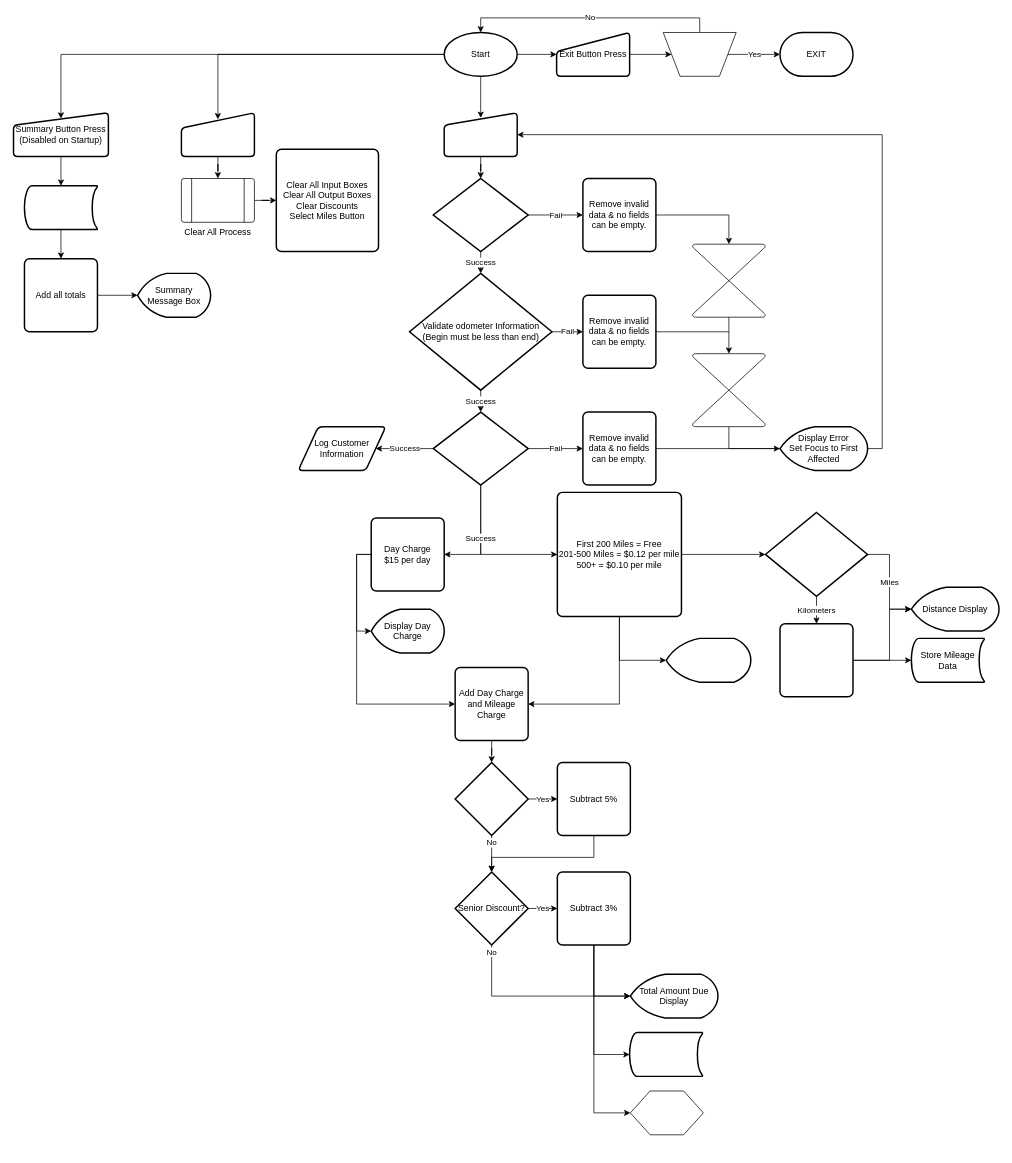
The diagram is 1012 pixels wide and 1163 high, and some of its shapes have lost their labels. The box of each missing label's shape, as (x1, y1, x2, y2) in pixels:
AAA Discount?: (454, 761, 529, 836)
Activate Summary Button: (630, 1090, 703, 1135)
Calculate Button Press: (443, 112, 518, 157)
Clear Button Press: (180, 112, 255, 157)
Convert Miles to Kilometers (.62 Miles = 1Km): (779, 623, 853, 697)
Display in Miles or Kilometers?: (764, 511, 868, 597)
Exit Prompt: (662, 32, 736, 76)
Mileage Charge Display: (665, 637, 751, 683)
Retrieve ALL stored Data: (23, 185, 98, 230)
Store Total Amount Data: (629, 1031, 703, 1077)
Validate customer Information: (432, 177, 529, 252)
Validate Days (0-45): (432, 411, 529, 485)
